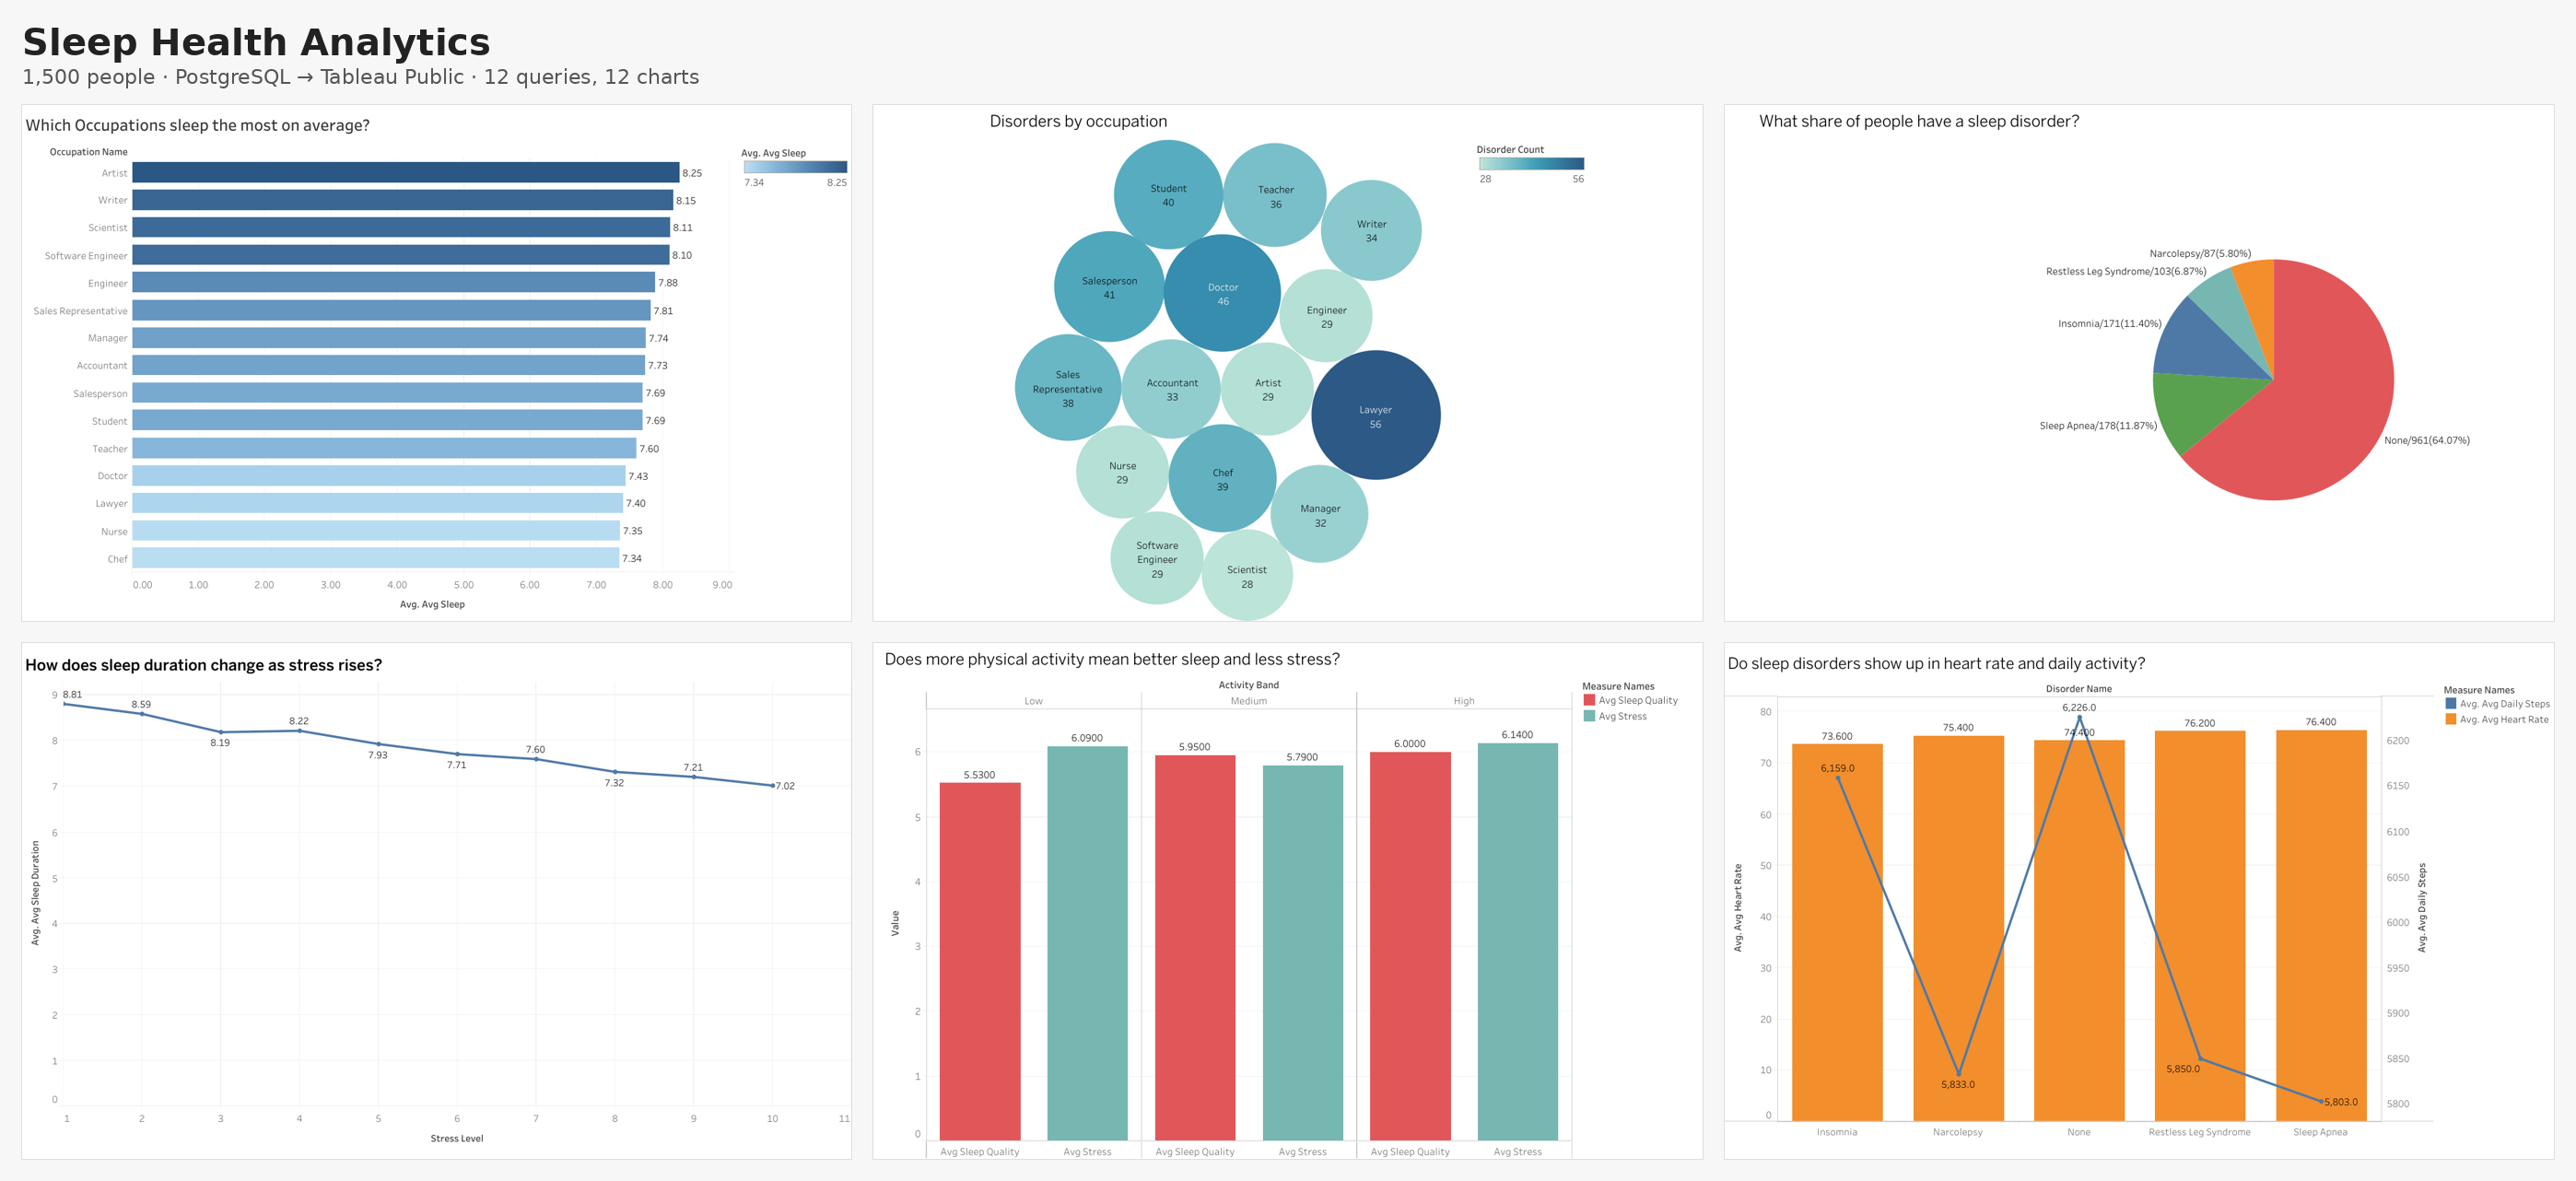

The dashboard page shown, as its layout file describes it:
{"tool":"tableau","page":{"name":"Sleep Health Dashboard","canvas":[1400,900],"ordinal":0},"visuals":[{"type":"text","box":[11.2,7.2,1377.6,63]},{"type":"worksheet","title":"Q01 Sleep by Occupation","mark":"Bar","rows":["occupation_name"],"cols":["avg_sleep"],"box":[11.2,70.2,459.2,411.3]},{"type":"worksheet","title":"Q08 Disorders by Occupation (Bubbles)","mark":"Circle","box":[470.4,70.2,459.2,411.3]},{"type":"worksheet","title":"Q09 Share with a Sleep Disorder (Pie)","mark":"Pie","box":[929.6,70.2,459.2,411.3]},{"type":"worksheet","title":"Q12 Sleep vs Stress Level (Line)","mark":"Line","rows":["avg_sleep_duration"],"cols":["stress_level"],"box":[11.2,481.5,459.2,411.3]},{"type":"worksheet","title":"Q10 Activity vs Sleep and Stress","mark":"Bar","cols":["activity_band"],"box":[470.4,481.5,459.2,411.3]},{"type":"worksheet","title":"Q13 Disorders vs Heart Rate and Steps","mark":"Automatic","rows":["avg_heart_rate","avg_daily_steps"],"cols":["disorder_name"],"box":[929.6,481.5,459.2,411.3]}]}

Visuals, with their boxes on the page's 1400x900 design canvas (x1, y1, x2, y2). These are canvas units, not pixel positions in the 2576x1181 screenshot, which may show the page scaled, cropped or inside an application window:
text: locate(11, 7, 1389, 70)
"Q01 Sleep by Occupation" worksheet (Bar marks): locate(11, 70, 470, 482)
"Q08 Disorders by Occupation (Bubbles)" worksheet (Circle marks): locate(470, 70, 930, 482)
"Q09 Share with a Sleep Disorder (Pie)" worksheet (Pie marks): locate(930, 70, 1389, 482)
"Q12 Sleep vs Stress Level (Line)" worksheet (Line marks): locate(11, 482, 470, 893)
"Q10 Activity vs Sleep and Stress" worksheet (Bar marks): locate(470, 482, 930, 893)
"Q13 Disorders vs Heart Rate and Steps" worksheet: locate(930, 482, 1389, 893)
